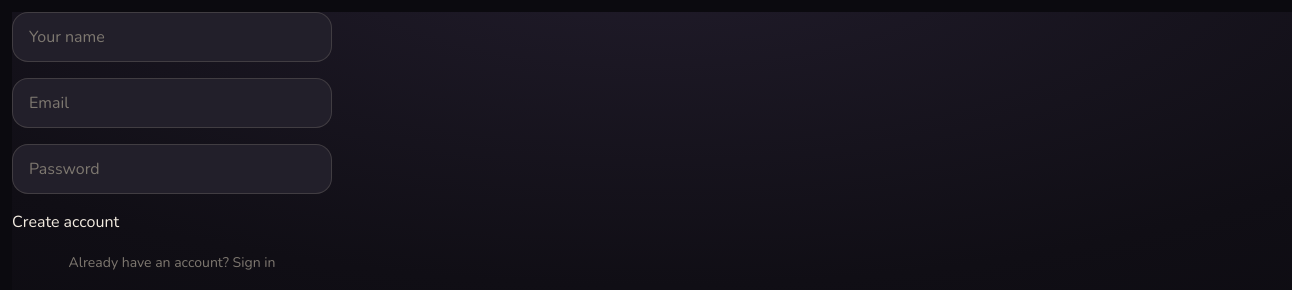
Test: AuthForm › switches to login mode
Click the button "Already have an account? Sign in": [172, 263] box top-left (12, 253), bottom-right (332, 273)
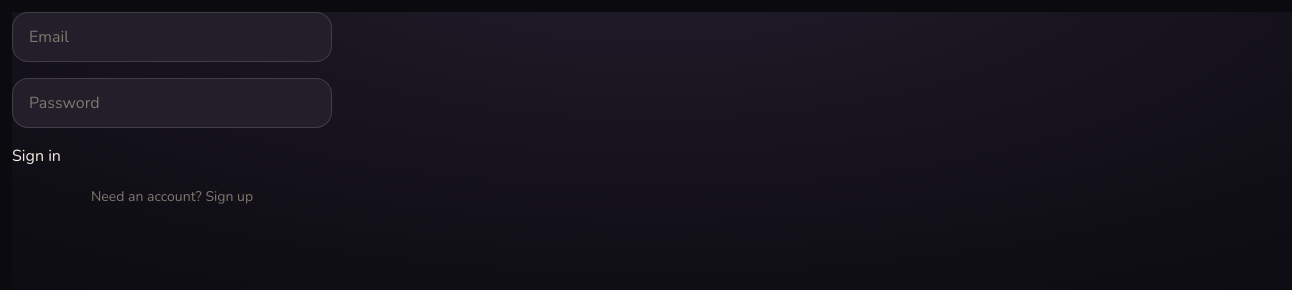
Check: the field with placeholder "Your name" is not shown
Check: the button "Sign in" is shown, box top-left (12, 144), bottom-right (61, 168)
